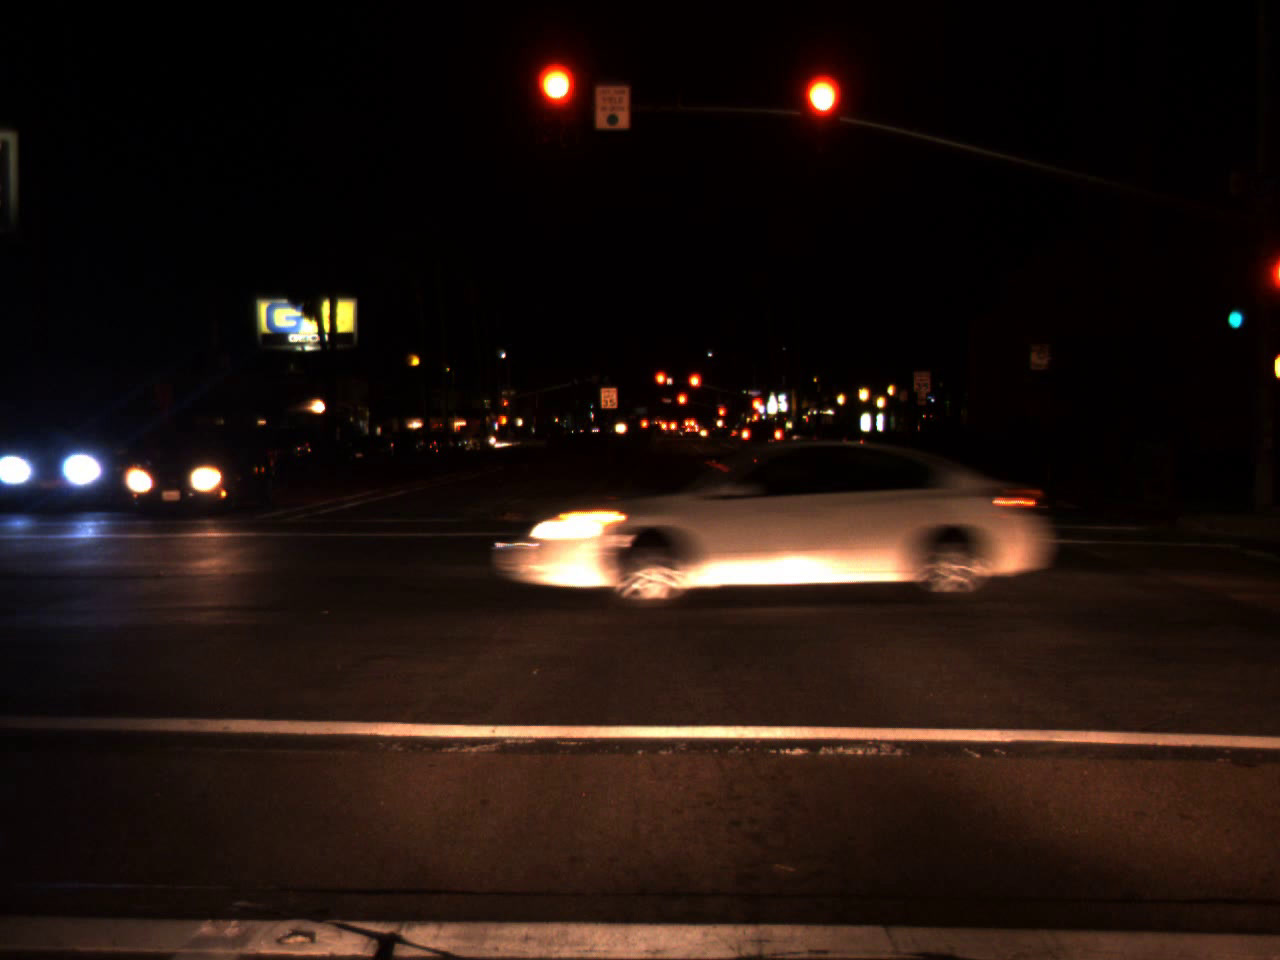stop: (537, 65, 577, 143), (801, 75, 841, 153), (653, 369, 671, 401), (686, 372, 702, 401), (676, 391, 688, 418), (750, 396, 763, 412), (717, 406, 727, 427), (503, 398, 509, 414)
